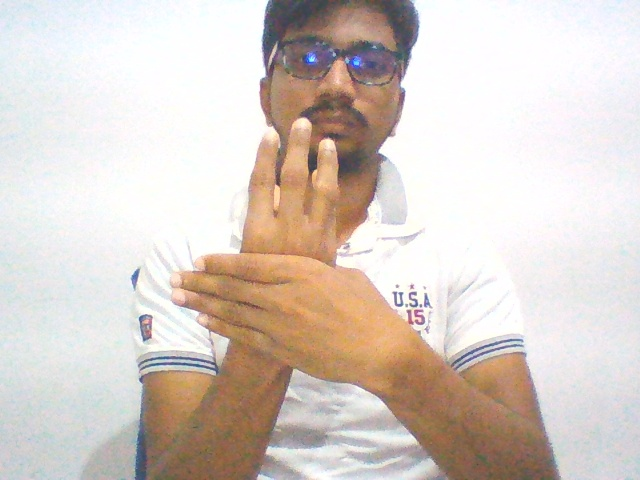tree: (160, 109, 427, 398)
